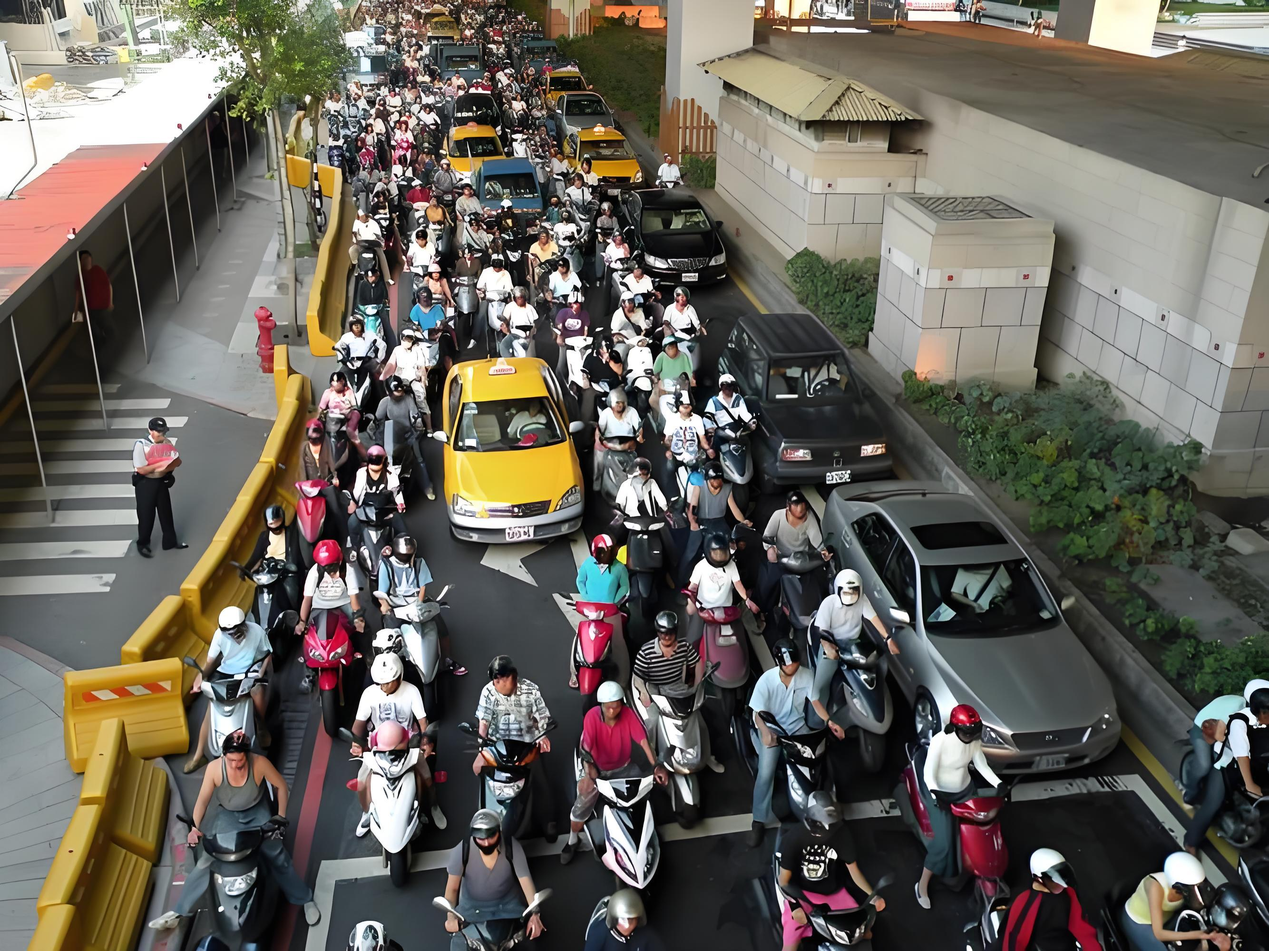car: (829, 476, 1142, 771), (719, 311, 899, 479), (437, 359, 591, 552), (612, 179, 738, 288), (563, 123, 670, 201), (435, 126, 518, 191), (472, 159, 553, 213), (542, 68, 614, 110), (555, 97, 617, 135), (432, 44, 487, 82), (457, 97, 506, 136)
motorbike: (188, 725, 319, 940), (566, 675, 683, 877), (347, 653, 441, 862), (742, 702, 859, 839), (474, 659, 558, 829), (287, 602, 382, 742), (813, 630, 901, 777), (682, 502, 770, 618), (190, 610, 259, 731), (247, 561, 312, 682), (594, 504, 678, 594), (372, 598, 461, 670), (354, 457, 409, 573), (563, 591, 621, 680), (291, 472, 340, 547), (326, 136, 349, 173), (384, 135, 401, 169)
person: (448, 809, 582, 941), (768, 803, 889, 948), (1171, 644, 1269, 810), (735, 645, 845, 749), (899, 709, 999, 822), (1005, 854, 1117, 951), (1130, 842, 1218, 951), (633, 615, 719, 715), (494, 284, 574, 381), (653, 394, 719, 479), (125, 426, 169, 530), (373, 378, 432, 448), (638, 334, 691, 398), (475, 257, 522, 323), (299, 423, 348, 481), (349, 268, 394, 323), (327, 371, 361, 436), (664, 284, 704, 334), (349, 198, 383, 256), (555, 262, 595, 309), (410, 292, 449, 339), (342, 313, 376, 364), (610, 298, 647, 342), (394, 333, 422, 391), (420, 194, 455, 234), (555, 211, 581, 260), (610, 230, 631, 272), (607, 235, 628, 273)
